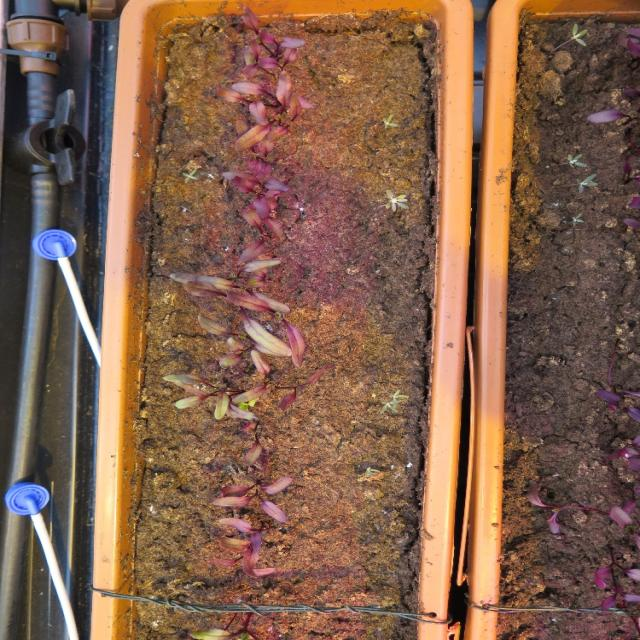weed: (382, 188, 409, 213), (568, 21, 587, 46), (575, 172, 596, 193), (566, 152, 586, 168), (381, 112, 398, 130), (180, 166, 197, 183), (362, 465, 380, 479), (570, 210, 584, 227)
